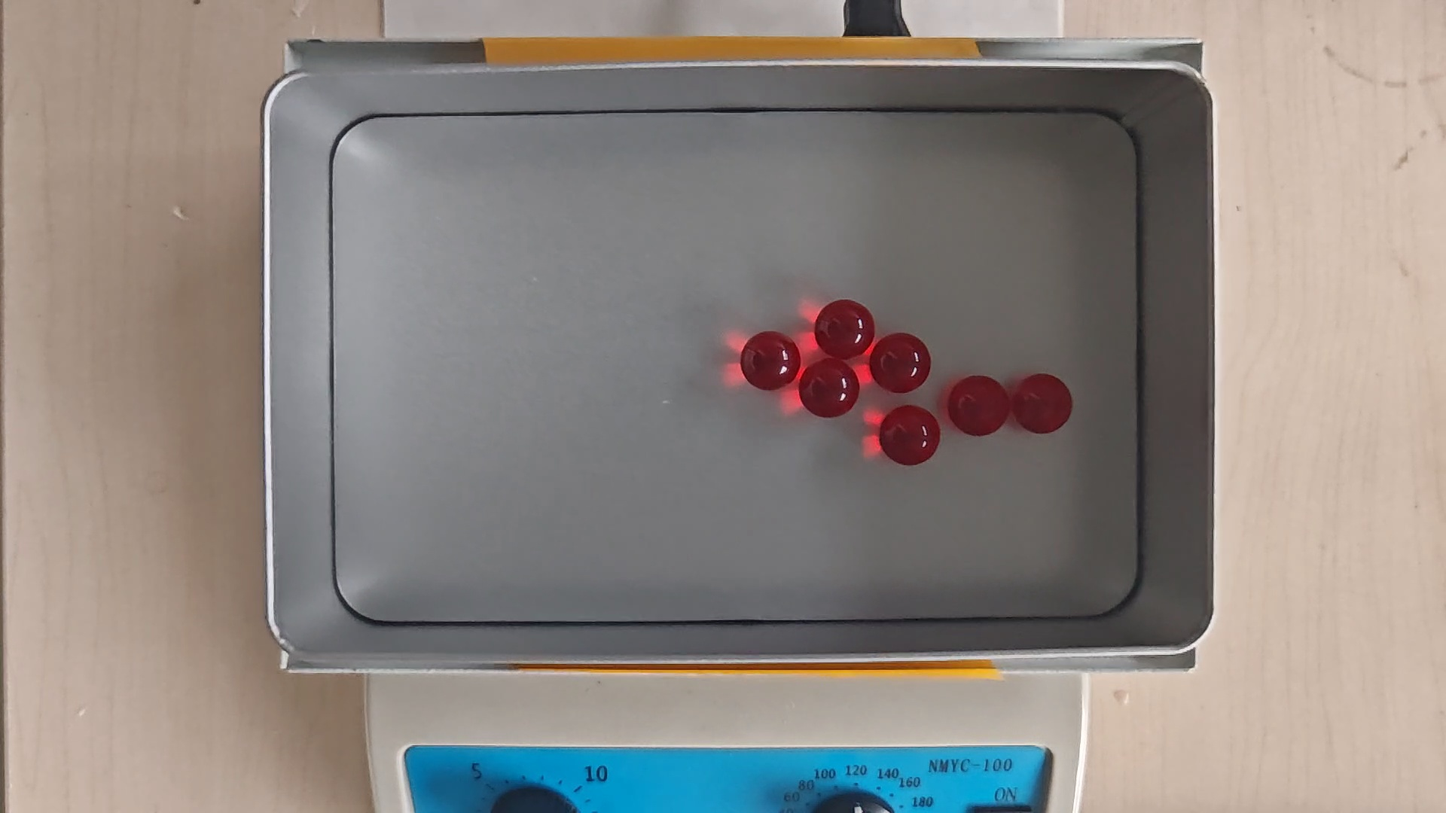ball: (947, 374, 1011, 437), (740, 330, 802, 392), (870, 332, 932, 394), (1013, 373, 1074, 436), (880, 404, 940, 467), (814, 300, 876, 360), (798, 359, 859, 419)
container: (333, 110, 1140, 620)
